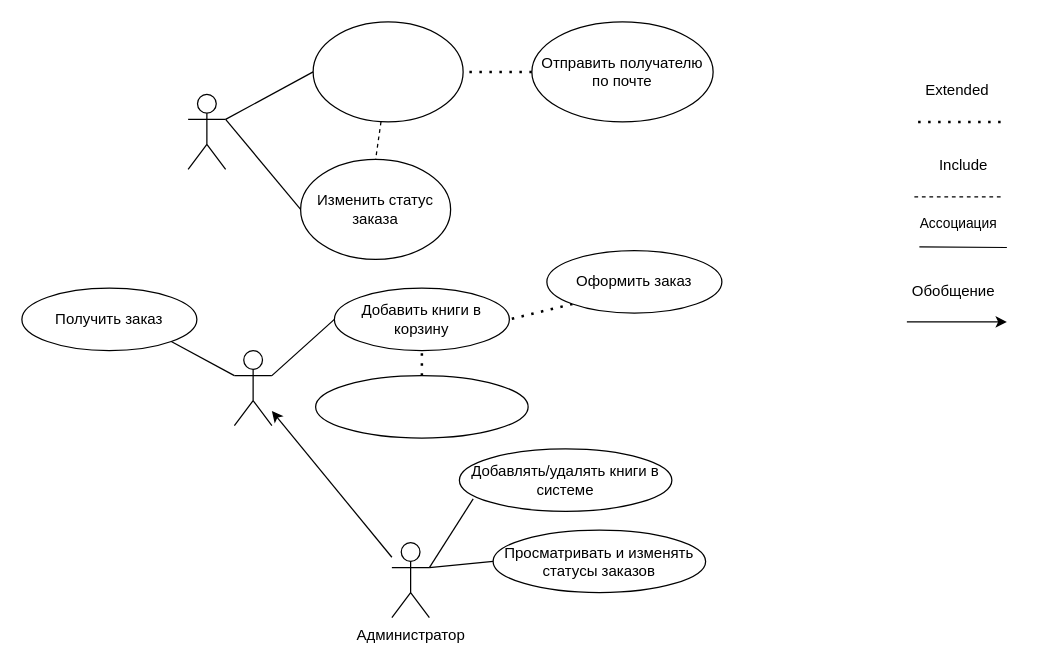
Some shapes in this 1039 by 666 pixel diagram are drawn without their labels. The shapes that lost their labels are listed below. From the top down, each one's box as (x1, y1, x2, y2) in pixels, then its label:
(312, 21, 463, 122): Выдать заказ
(187, 93, 226, 169): Исполнитель
(233, 349, 272, 426): Клиент
(314, 374, 528, 438): Управлять содержимым корзины
